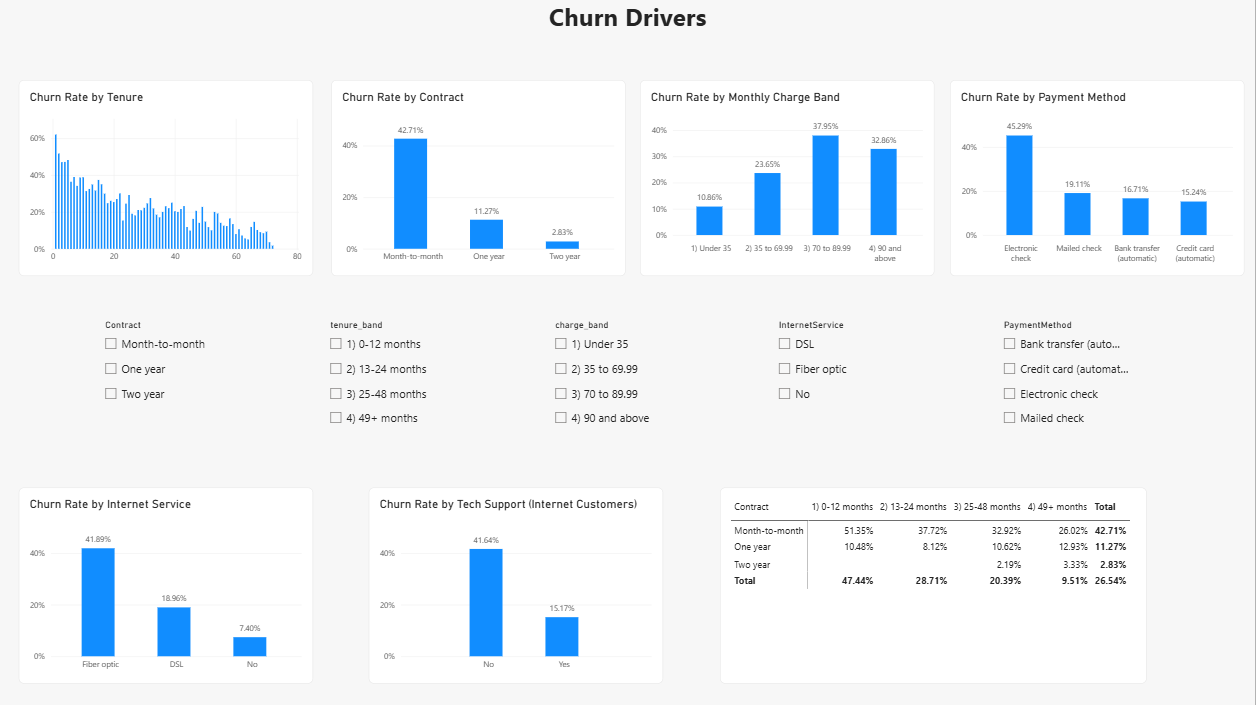

The page's visual inventory and layout, read from the dashboard file:
{"tool":"powerbi","page":{"name":"Churn Drivers","canvas":[1920,1080],"ordinal":1},"visuals":[{"type":"clusteredColumnChart","title":"Churn Rate by Tenure","fields":{"Category":["telco_customer_churn_clean.tenure"],"Y":["telco_customer_churn_clean.Churn Rate"]},"box":[27.8,122.4,450,300],"z":0},{"type":"clusteredColumnChart","title":"Churn Rate by Contract","fields":{"Category":["telco_customer_churn_clean.Contract"],"Y":["telco_customer_churn_clean.Churn Rate"]},"box":[506.4,122.4,450,300],"z":1000},{"type":"clusteredColumnChart","title":"Churn Rate by Monthly Charge Band","fields":{"Category":["telco_customer_churn_clean.charge_band"],"Y":["telco_customer_churn_clean.Churn Rate"]},"box":[979.7,122.4,450,300],"z":2000},{"type":"clusteredColumnChart","title":"Churn Rate by Payment Method","fields":{"Category":["telco_customer_churn_clean.PaymentMethod"],"Y":["telco_customer_churn_clean.Churn Rate"]},"box":[1453,122.4,450,300],"z":3000},{"type":"clusteredColumnChart","title":"Churn Rate by Internet Service","fields":{"Category":["telco_customer_churn_clean.InternetService"],"Y":["telco_customer_churn_clean.Churn Rate"]},"box":[27.8,745.7,450,300],"z":4000},{"type":"clusteredColumnChart","title":"Churn Rate by Tech Support (Internet Customers)","fields":{"Category":["telco_customer_churn_clean.TechSupport"],"Y":["telco_customer_churn_clean.Churn Rate"]},"box":[564.9,745.7,450,300],"z":5000},{"type":"pivotTable","fields":{"Columns":["telco_customer_churn_clean.tenure_band"],"Rows":["telco_customer_churn_clean.Contract"],"Values":["telco_customer_churn_clean.Churn Rate"]},"box":[1101.9,745.9,652.6,299.9],"z":6000},{"type":"slicer","fields":{"Values":["telco_customer_churn_clean.Contract"]},"box":[153,487,200,200],"z":7000},{"type":"slicer","fields":{"Values":["telco_customer_churn_clean.tenure_band"]},"box":[497.8,487,200,200],"z":8000},{"type":"slicer","fields":{"Values":["telco_customer_churn_clean.charge_band"]},"box":[841.2,487,200,200],"z":9000},{"type":"slicer","fields":{"Values":["telco_customer_churn_clean.InternetService"]},"box":[1184.6,487,200,200],"z":10000},{"type":"slicer","fields":{"Values":["telco_customer_churn_clean.PaymentMethod"]},"box":[1528,487,200,200],"z":11000},{"type":"textbox","box":[2.8,0,1917.2,100.2],"z":12000}]}

Visuals, with their boxes in screenshot pixels (x1, y1, x2, y2), scaled from the page's 1920x1080 canvas onto the 1256x705 screenshot:
"Churn Rate by Tenure" clusteredColumnChart: x1=18, y1=80, x2=313, y2=276
"Churn Rate by Contract" clusteredColumnChart: x1=331, y1=80, x2=626, y2=276
"Churn Rate by Monthly Charge Band" clusteredColumnChart: x1=641, y1=80, x2=935, y2=276
"Churn Rate by Payment Method" clusteredColumnChart: x1=951, y1=80, x2=1245, y2=276
"Churn Rate by Internet Service" clusteredColumnChart: x1=18, y1=487, x2=313, y2=683
"Churn Rate by Tech Support (Internet Customers)" clusteredColumnChart: x1=370, y1=487, x2=664, y2=683
pivotTable - telco_customer_churn_clean.tenure_band x telco_customer_churn_clean.Contract: x1=721, y1=487, x2=1148, y2=683
slicer - telco_customer_churn_clean.Contract: x1=100, y1=318, x2=231, y2=448
slicer - telco_customer_churn_clean.tenure_band: x1=326, y1=318, x2=456, y2=448
slicer - telco_customer_churn_clean.charge_band: x1=550, y1=318, x2=681, y2=448
slicer - telco_customer_churn_clean.InternetService: x1=775, y1=318, x2=906, y2=448
slicer - telco_customer_churn_clean.PaymentMethod: x1=1000, y1=318, x2=1130, y2=448
textbox: x1=2, y1=0, x2=1255, y2=65
